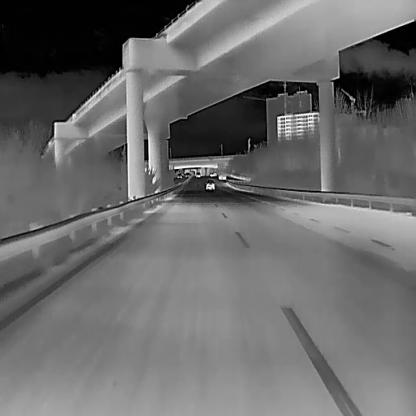car: (205, 179, 214, 189), (218, 169, 226, 179), (184, 172, 190, 177), (195, 171, 200, 177), (177, 172, 182, 177)
truck: (209, 172, 217, 176)
